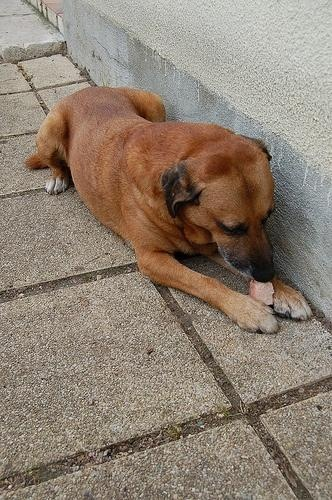dog: (27, 79, 319, 344)
